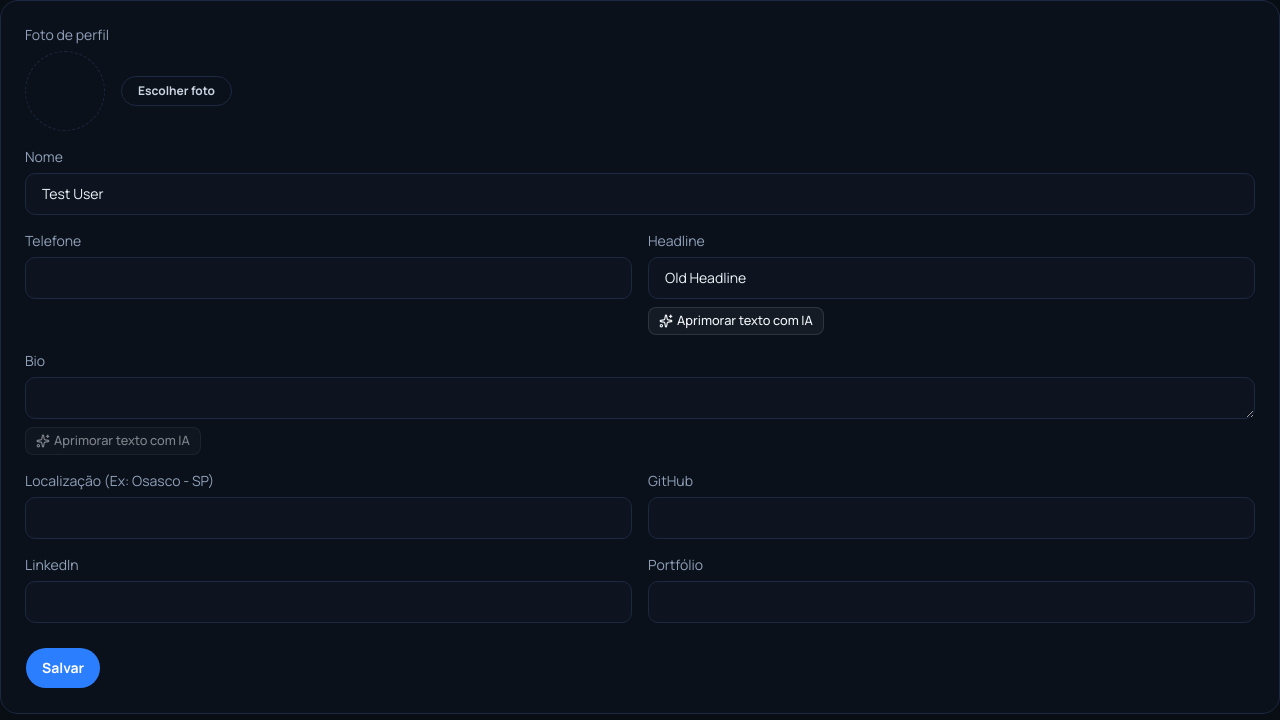
it: ProfileForm › clears the field error once the user fixes the input
In the field labelled "GitHub": [952, 518] box [648, 497, 1255, 539], type "not-a-url"
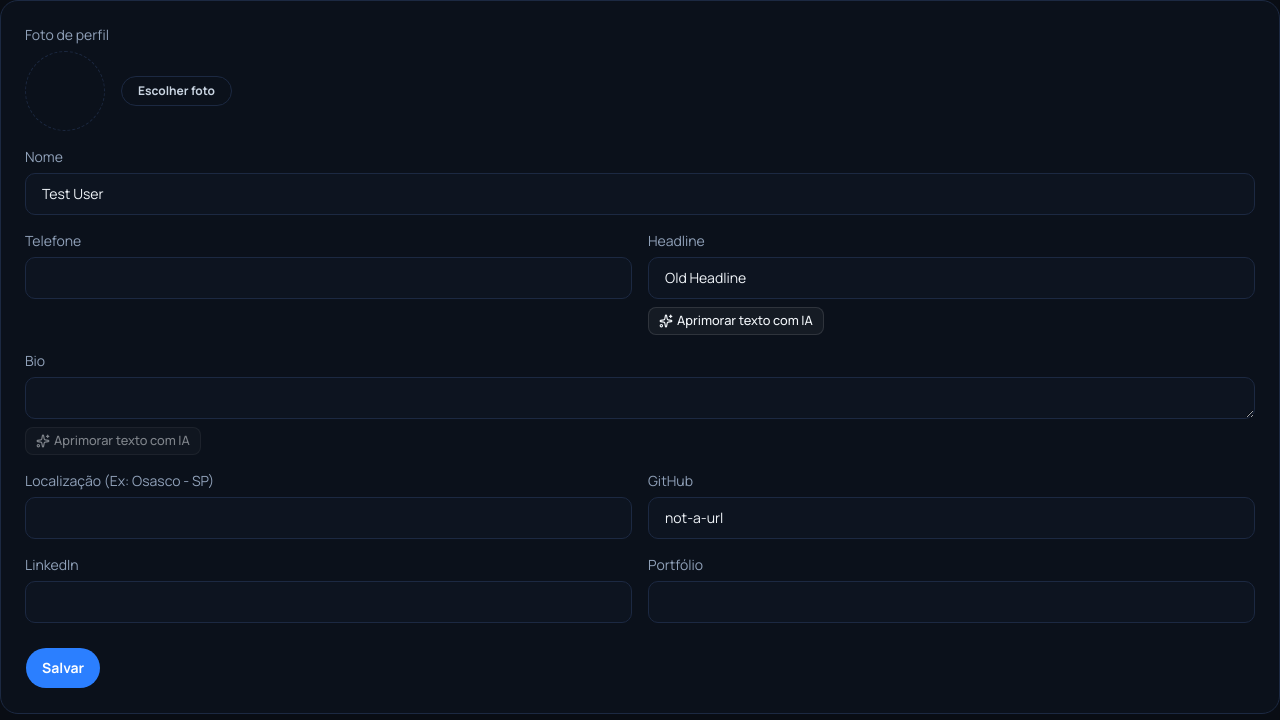
Click the button "Salvar": [63, 668] box [25, 647, 101, 689]
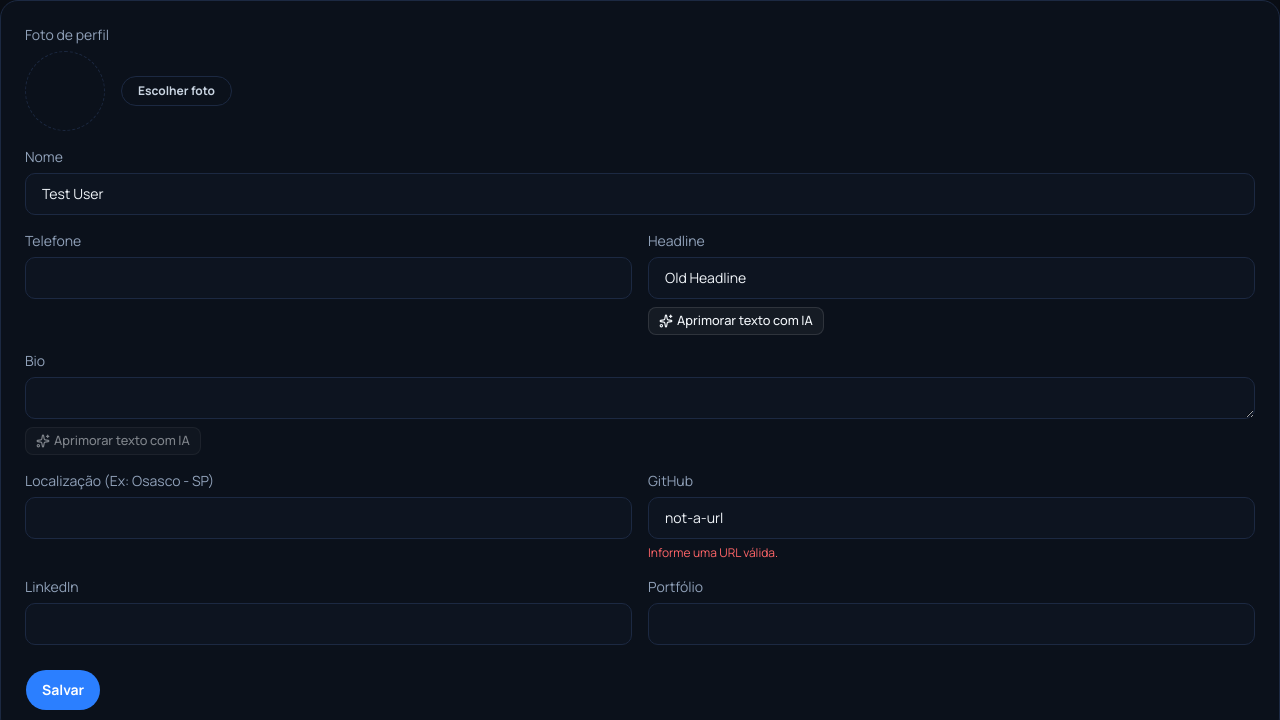
Check: the text "Informe uma URL válida." is shown, box [648, 544, 778, 561]
Replace the text in the field labelled "GitHub Informe uma URL válida." with "https://github.com/user": [952, 518] box [648, 497, 1255, 539]
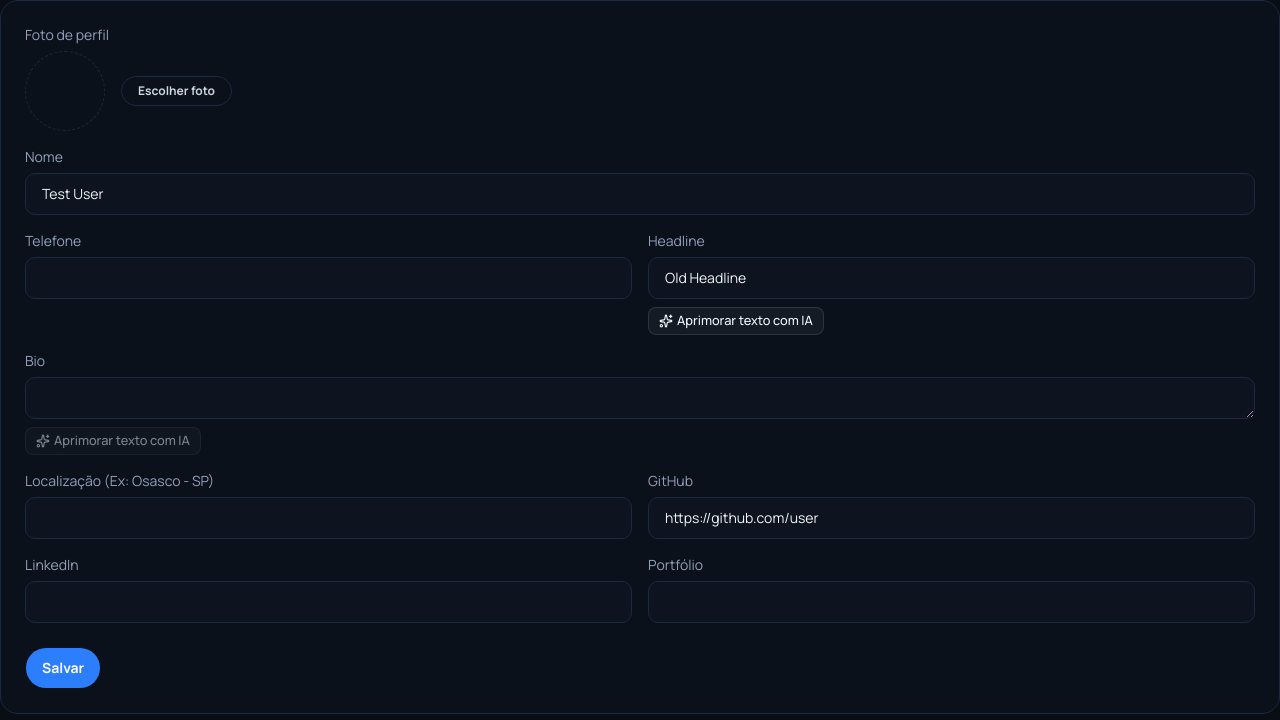
Check: the text "Informe uma URL válida." is gone
